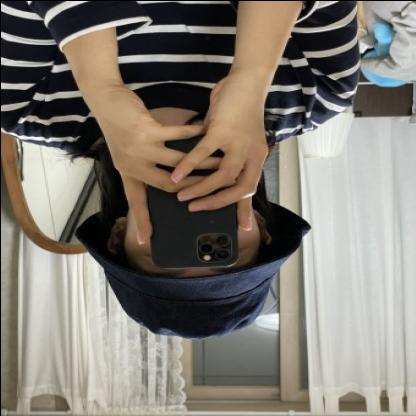hat: (72, 190, 316, 340)
